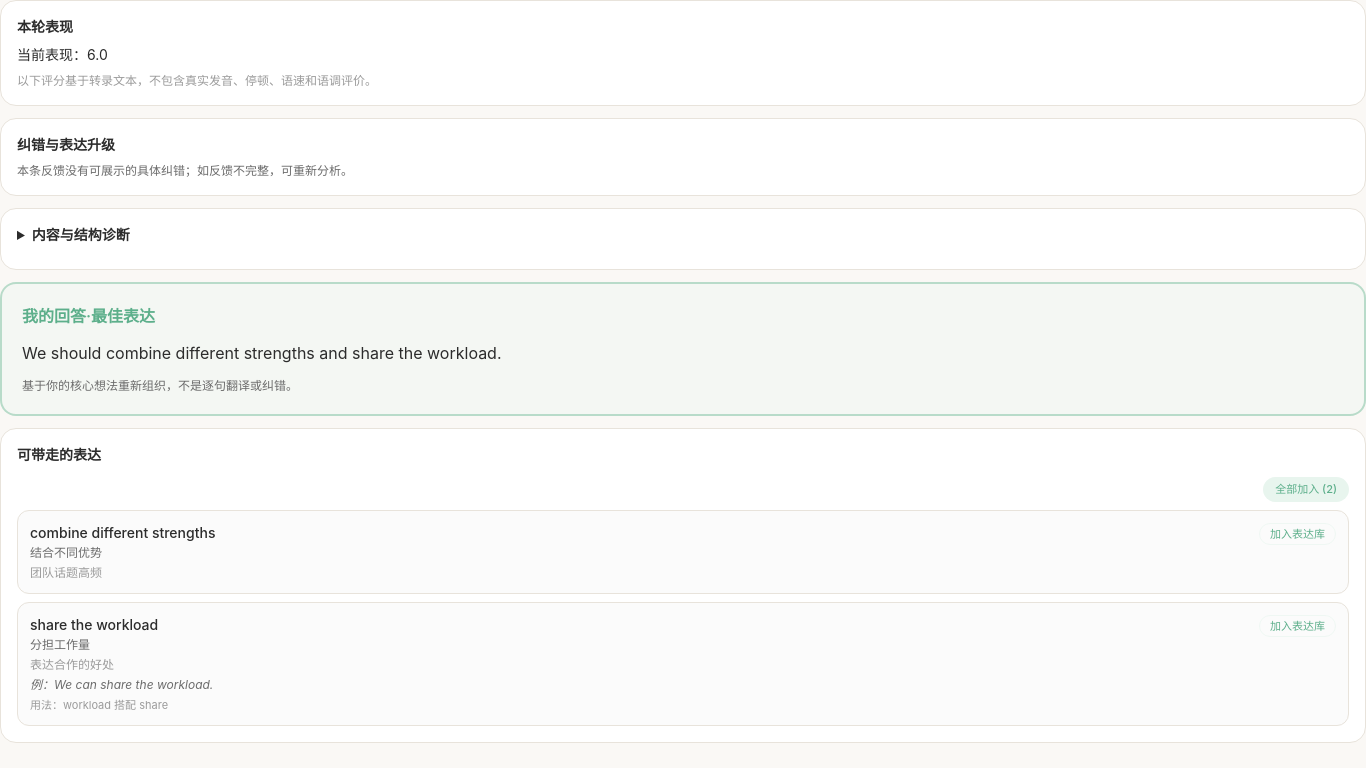
takeaway → expression bank add flow › add-all adds every pending item
This screenshot has width=1366, height=768.
Click the button "全部加入 (2)": click(1306, 489) [1263,477,1349,502]
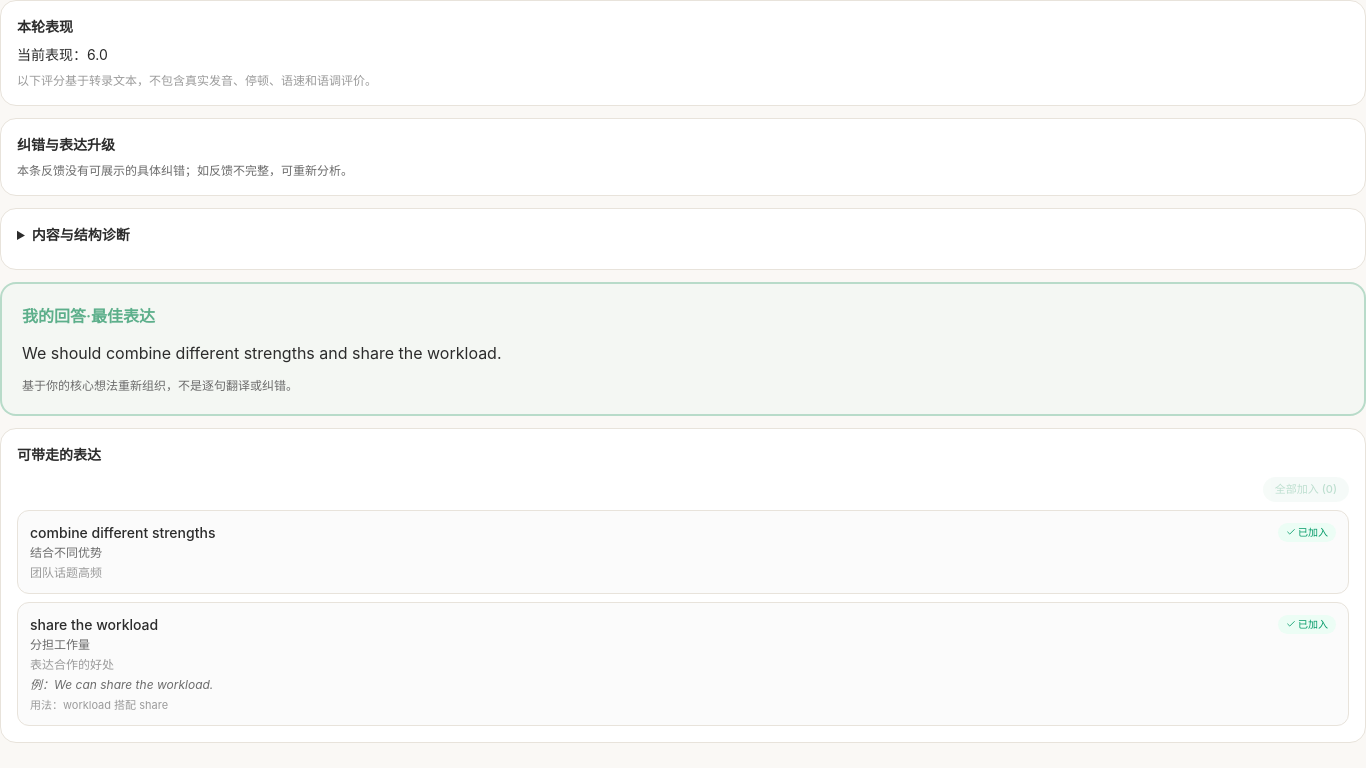
expect the text "已加入" is shown 2 times: met, box [1278,522,1336,542]; [1278,614,1336,634]
